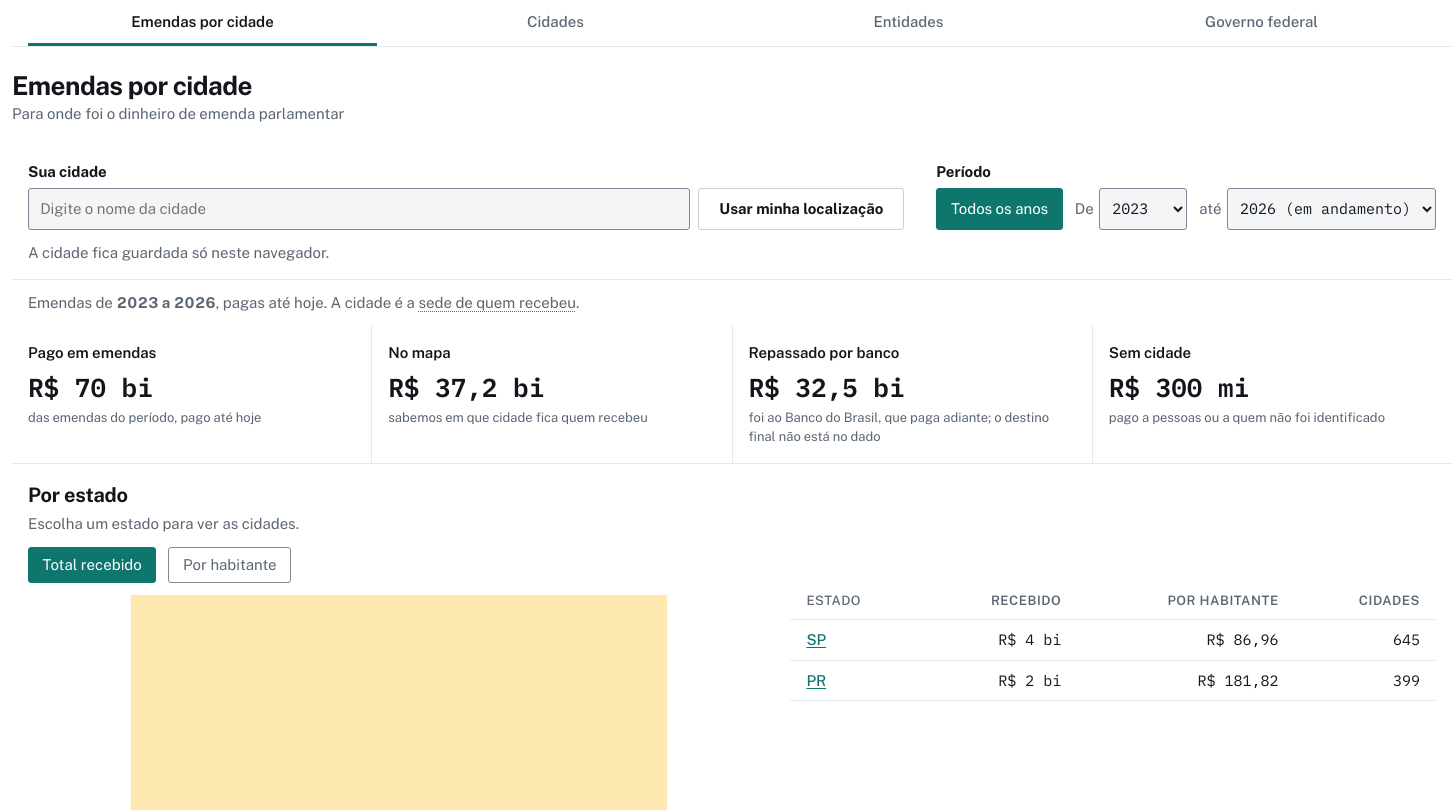
o mapa por habitante › reordena a tabela pelo valor por habitante
Step 1. Click the button "Por habitante" → (230, 565), box [168,546,291,583]
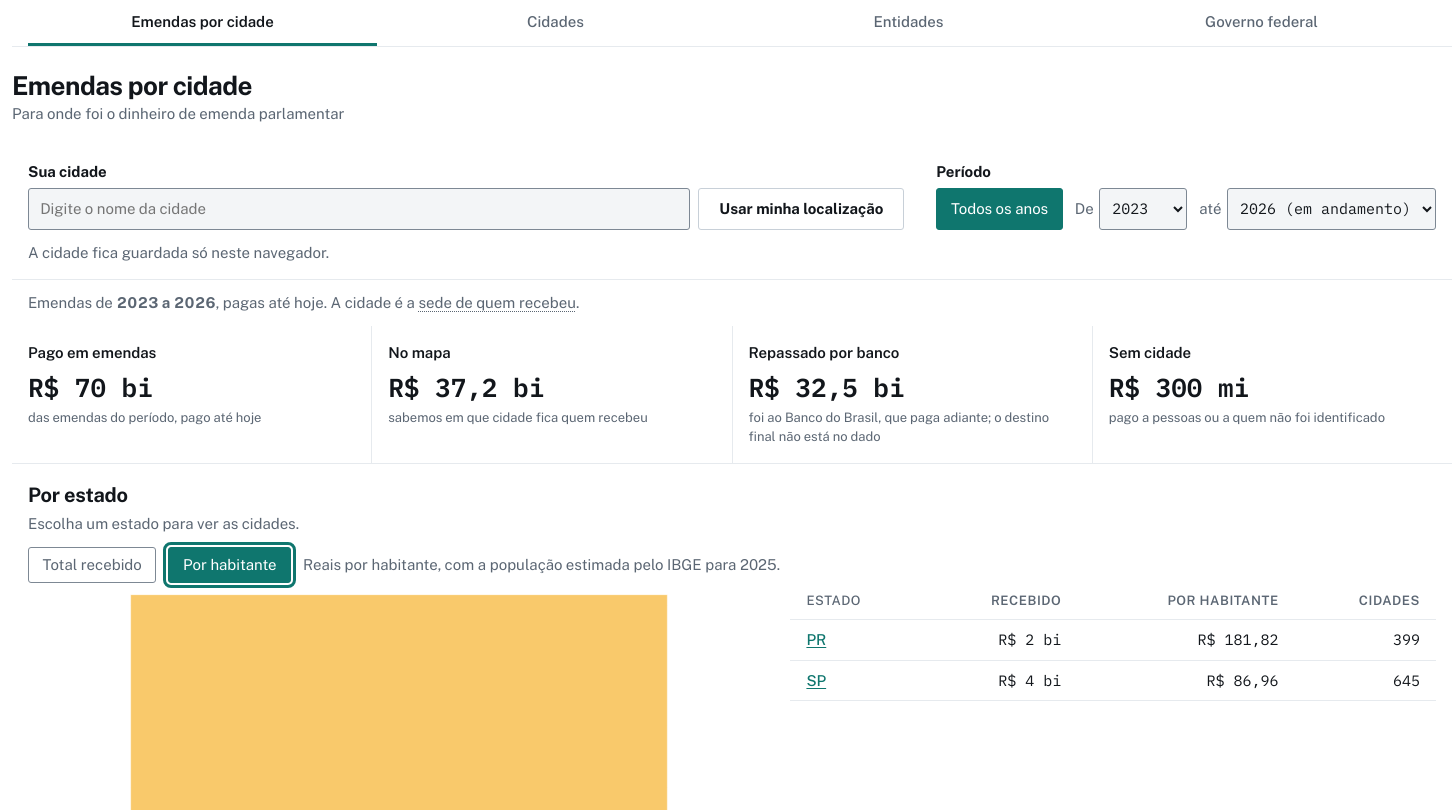
Now the text "com a população estimada pelo IBGE para 2025" is shown, box [303,556,780,573]
